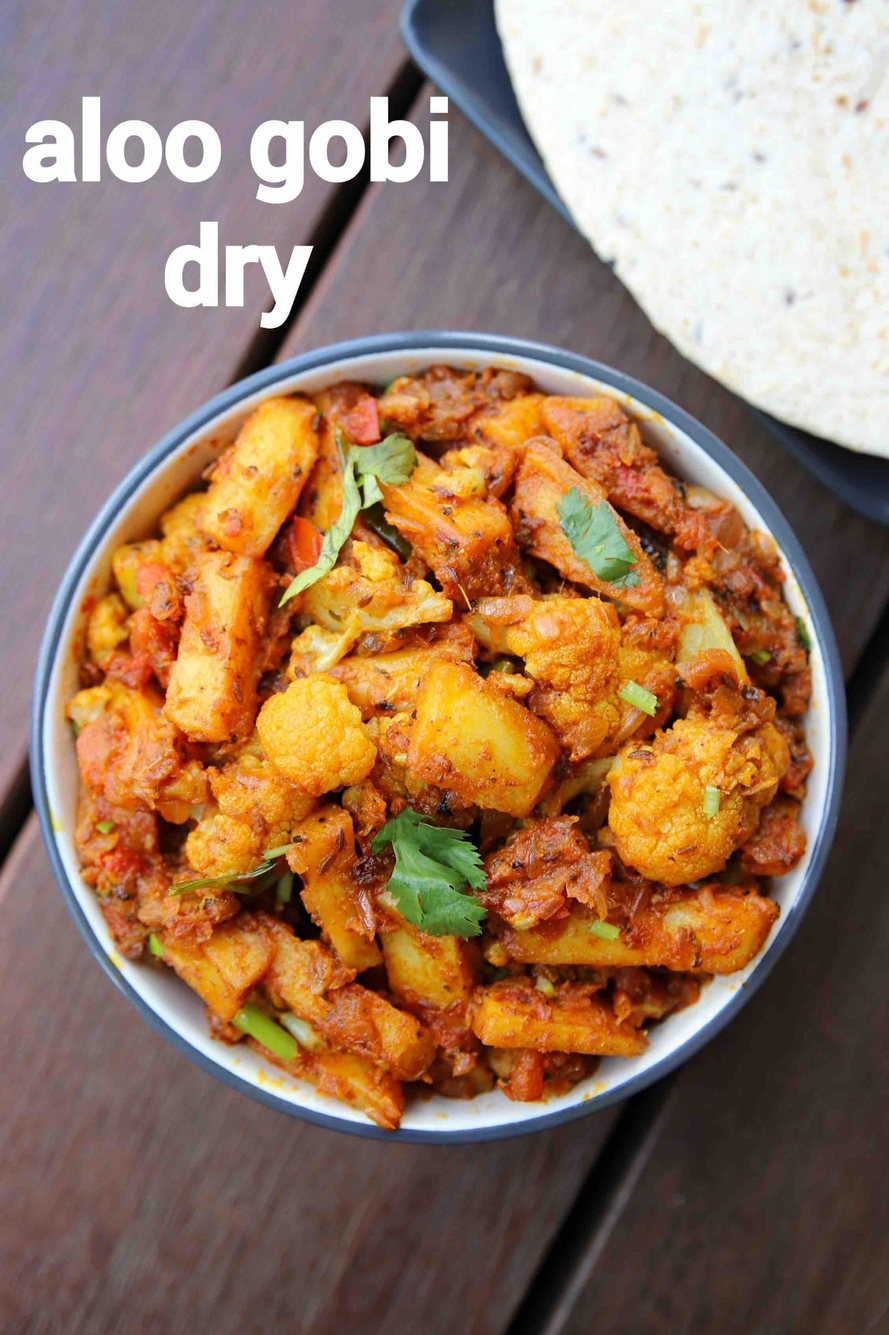aloo gobhi: (92, 348, 847, 1102)
